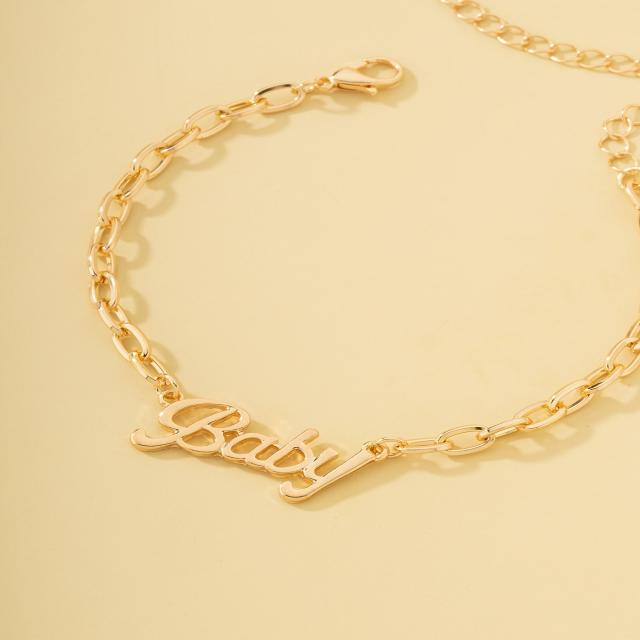bracelet: (51, 12, 640, 510)
